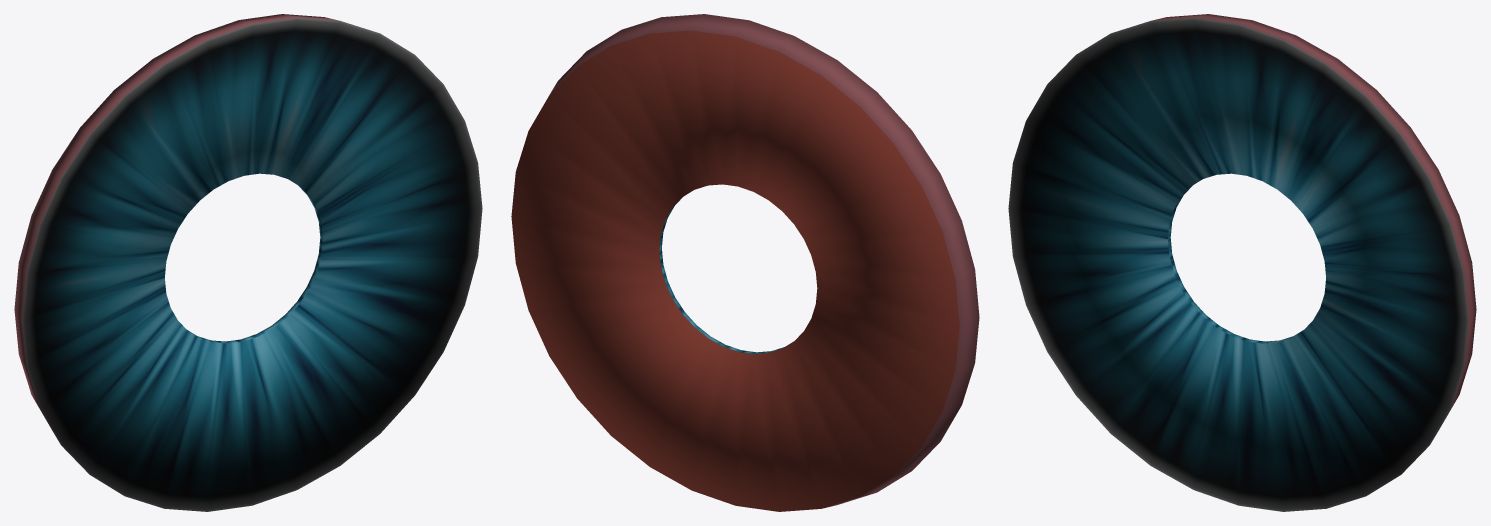
The model's file is pupille.glb.
3 renders of one model, left to right at view 1: azimuth 30°, elevation 25°; view 2: azimuth 150°, elevation 25°; view 3: azimuth 330°, elevation 25°, orthographic.
Parts seen in each view (by area): view 1: Sphere.015; view 2: Sphere.015; view 3: Sphere.015.
Part boxes in pixels (x1,y1,x2,y2): Sphere.015: [14, 14, 482, 511]; Sphere.015: [511, 14, 979, 511]; Sphere.015: [1008, 14, 1476, 511].
Size of the model in its own units: 0.7654 by 0.7654 by 0.0398.
2 materials, 1 textured.
